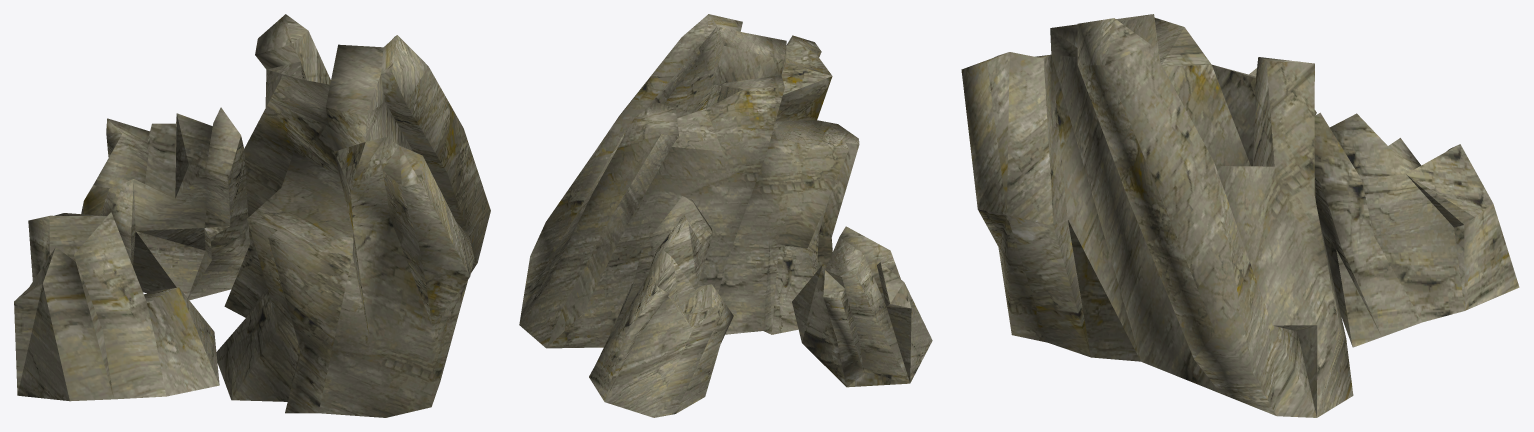
File: mine_stonemine_temperate_quarry.glb
3 views of the same model, side by side, from view 1: azimuth 30°, elevation 25°; view 2: azimuth 150°, elevation 25°; view 3: azimuth 270°, elevation 25° (orthographic). The views are drawn at different scales.
Parts seen in each view (by area): view 1: mine_stonemine_temperate_quarry_part0; view 2: mine_stonemine_temperate_quarry_part0; view 3: mine_stonemine_temperate_quarry_part0.
Part boxes in pixels (x1,y1,x2,y2): mine_stonemine_temperate_quarry_part0: (14, 14, 490, 417); mine_stonemine_temperate_quarry_part0: (519, 14, 932, 417); mine_stonemine_temperate_quarry_part0: (961, 14, 1519, 417).
Bounding box in the file's own units: 4.74 × 3.37 × 4.96.
1 material, 1 textured.
